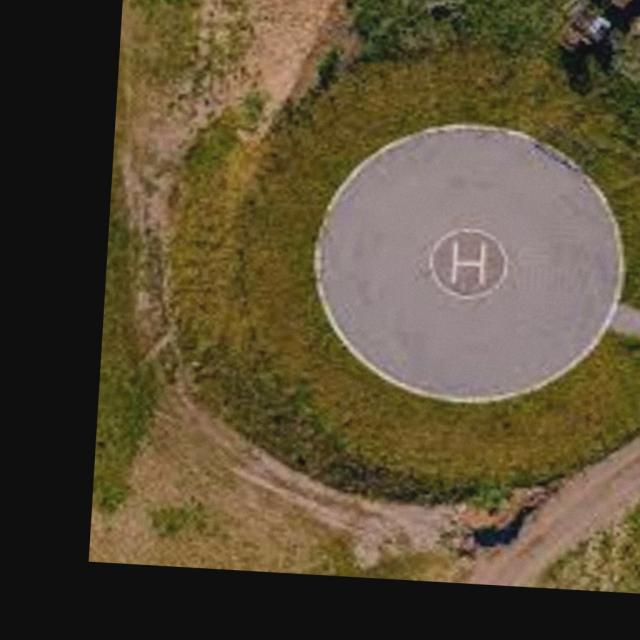helipad: (425, 221, 511, 302)
